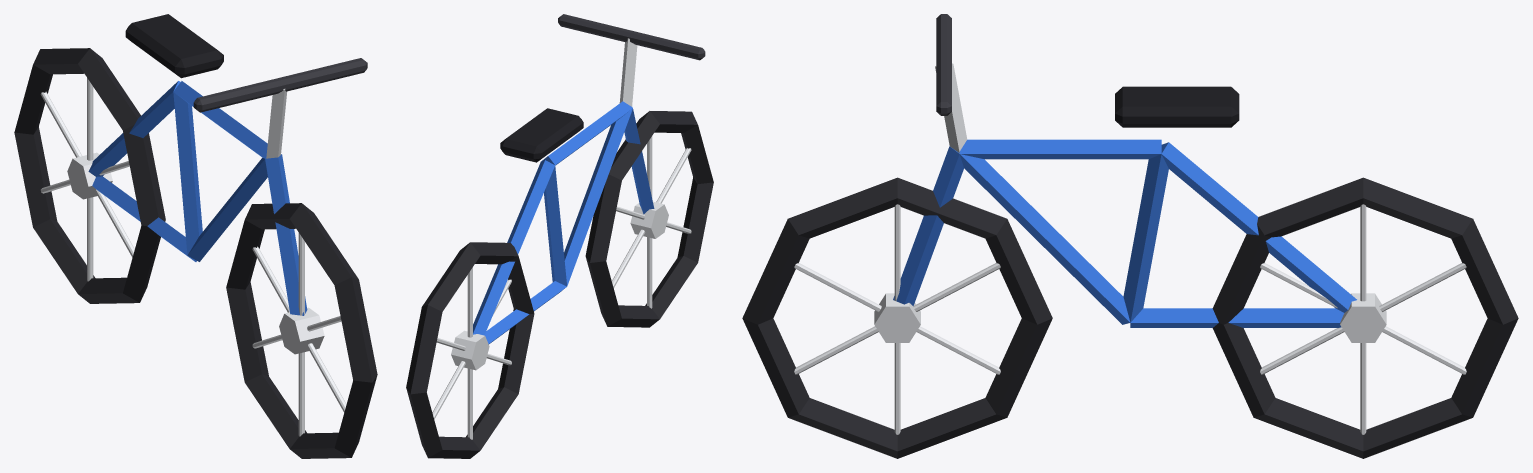
The model's file is Bicycle.fbx.
The picture shows the model from 3 angles, left to right: view 1: azimuth 30°, elevation 25°; view 2: azimuth 150°, elevation 25°; view 3: azimuth 270°, elevation 25°; orthographic projection. The views are drawn at different scales.
Visible parts, largest first — view 1: Bicycle, Bicycle_WheelF, Bicycle_WheelB; view 2: Bicycle, Bicycle_WheelB, Bicycle_WheelF; view 3: Bicycle, Bicycle_WheelF, Bicycle_WheelB.
Boxes of the visible parts, x1,y1,x2,y2 form: Bicycle: [88, 14, 367, 315]; Bicycle_WheelF: [226, 203, 377, 458]; Bicycle_WheelB: [14, 48, 165, 303]; Bicycle: [473, 14, 705, 344]; Bicycle_WheelB: [406, 242, 534, 458]; Bicycle_WheelF: [585, 111, 713, 327]; Bicycle: [893, 14, 1356, 327]; Bicycle_WheelF: [742, 177, 1052, 458]; Bicycle_WheelB: [1212, 177, 1518, 458].
Size of the model in its own units: 1.4 by 2.85 by 5.
1 material, 1 textured.
